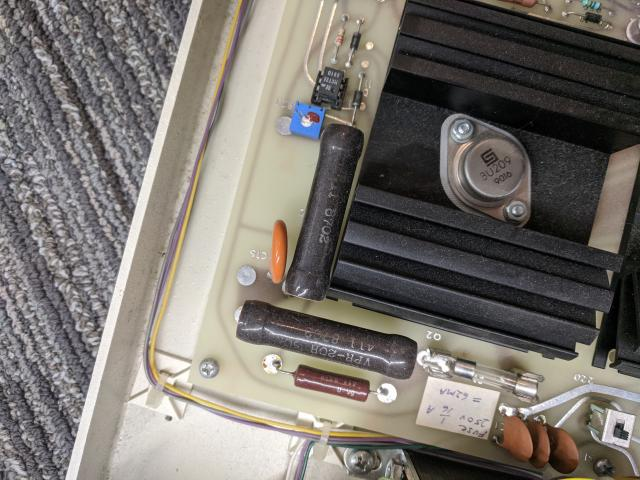CRS: (346, 450, 374, 476), (593, 452, 618, 480), (196, 358, 221, 380)
